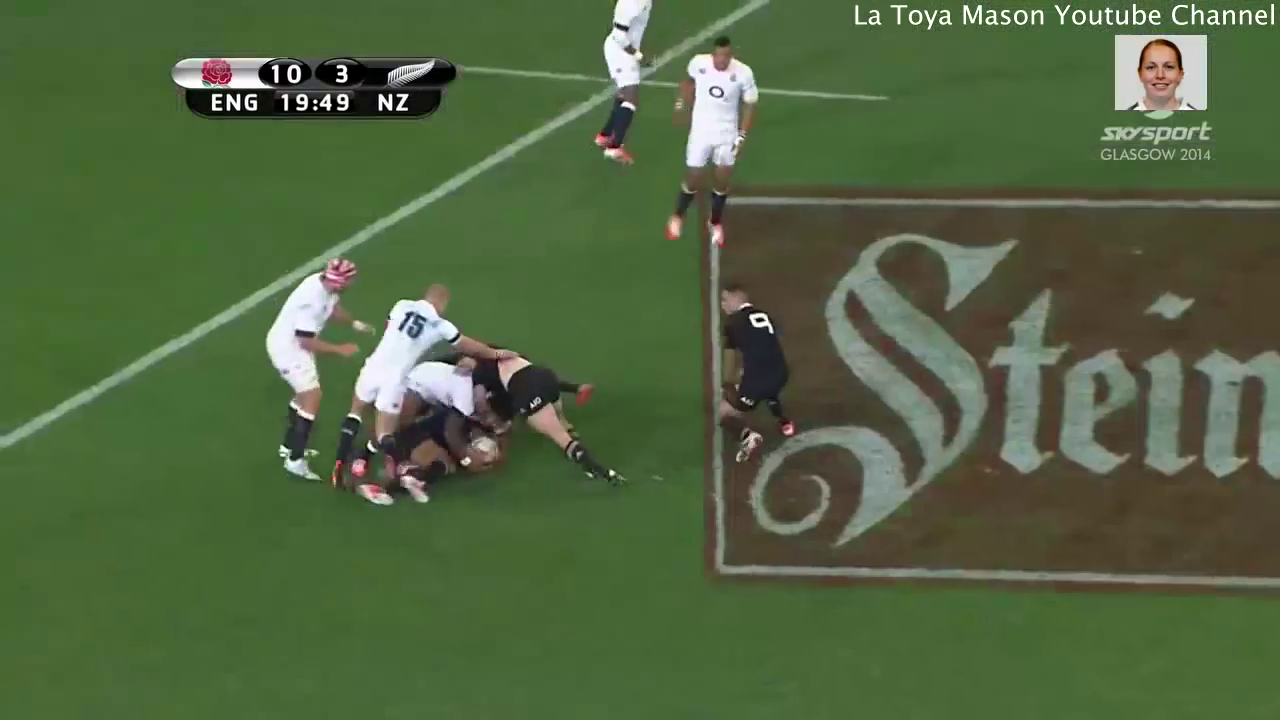ball: (460, 424, 513, 478)
player: (322, 276, 524, 507), (463, 331, 659, 514), (251, 236, 383, 499), (655, 24, 766, 265), (694, 275, 815, 465), (580, 1, 670, 172)
ruck: (289, 273, 626, 524)
